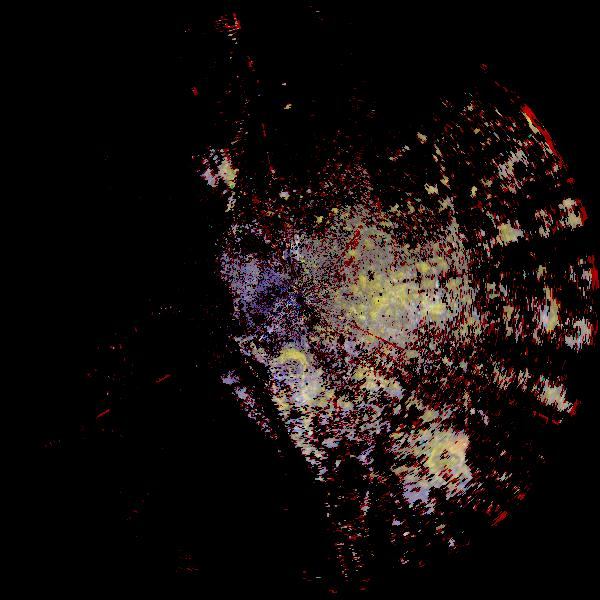roost: (256, 339, 334, 417), (420, 422, 492, 494)
